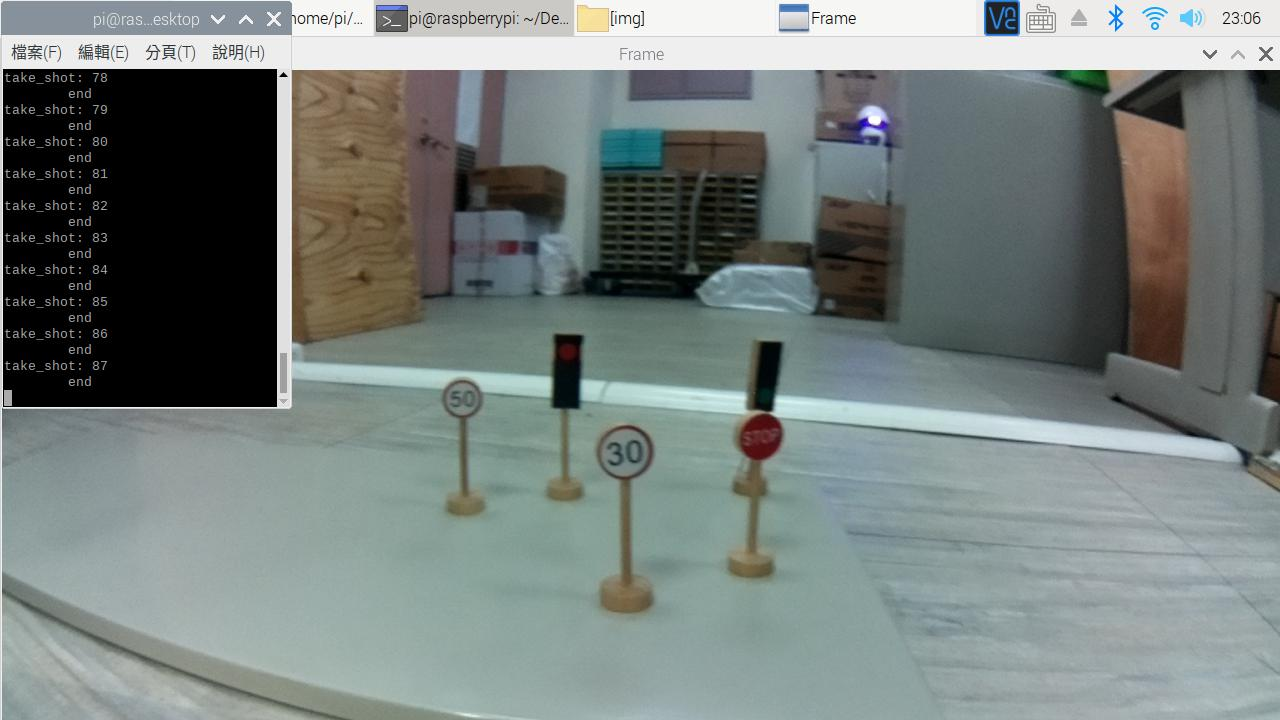Green: (745, 339, 787, 410)
Red: (542, 323, 592, 419)
Speed30: (589, 423, 667, 486)
Speed50: (435, 379, 497, 424)
Stop: (734, 411, 792, 472)
